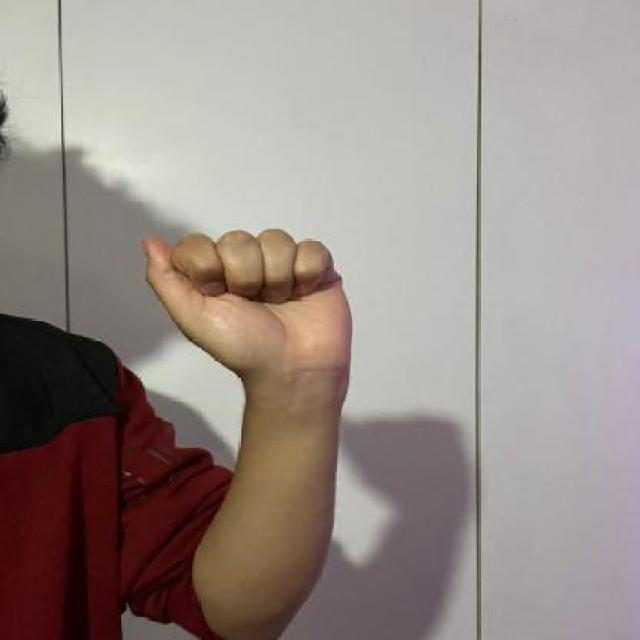A: (136, 228, 355, 377)
